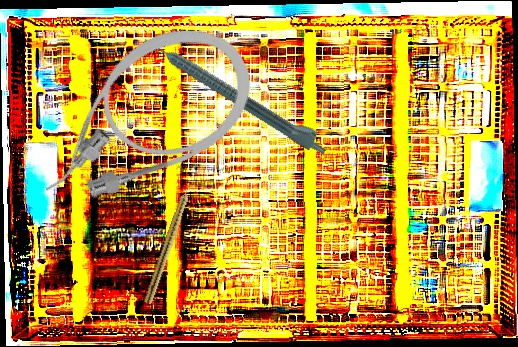Cannula: (6, 4, 273, 227)
Handpiece: (141, 26, 333, 159), (143, 181, 196, 306)
